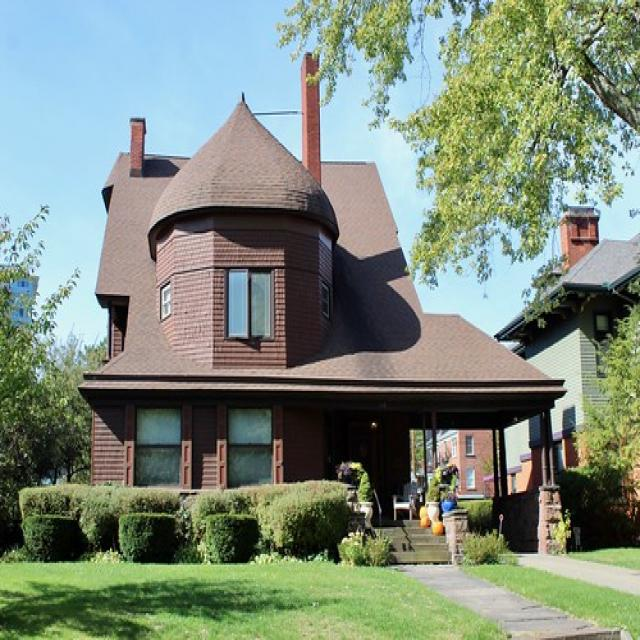Normal_building: (75, 68, 569, 568)
